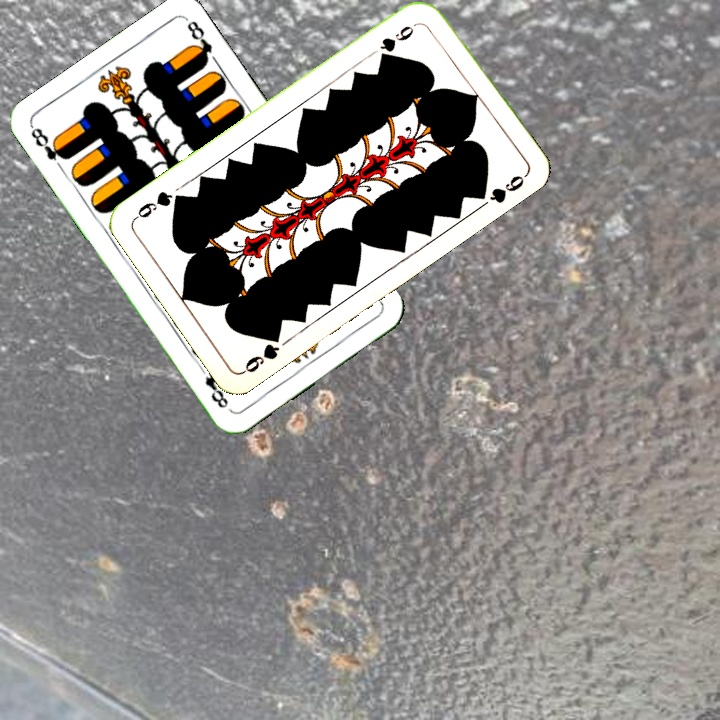E8: (26, 123, 71, 163)
G9: (239, 327, 284, 376), (375, 18, 422, 63)
